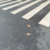zebra: (1, 1, 50, 26)
